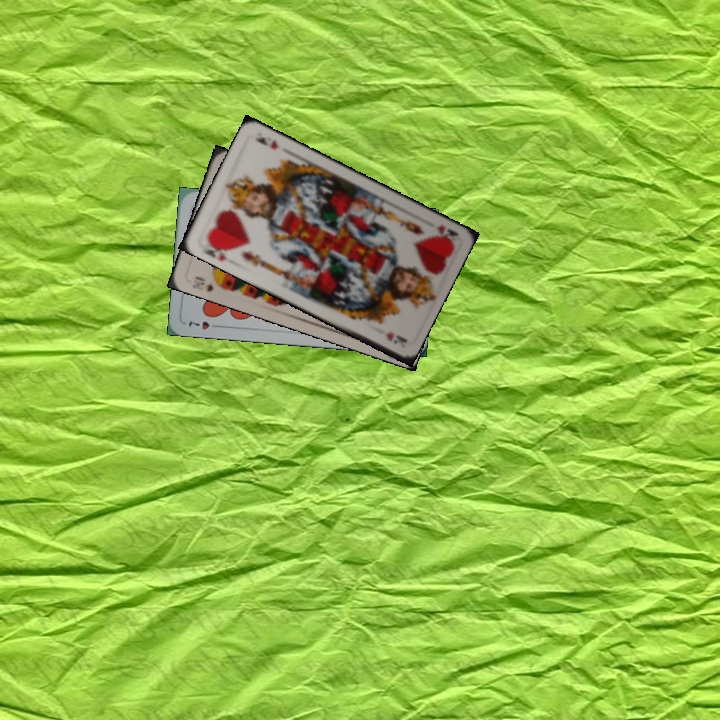H7: (184, 317, 223, 332)
HK: (200, 235, 234, 264), (431, 221, 460, 246)
S10: (188, 272, 226, 294)
